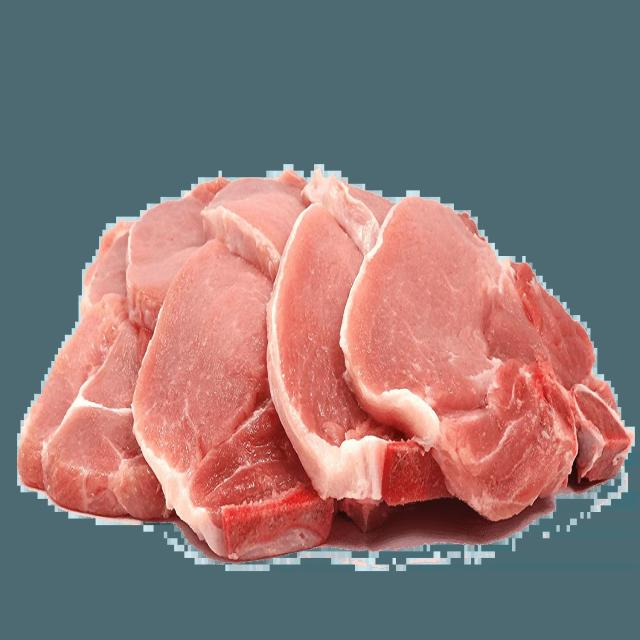Pork: (17, 168, 575, 580)
